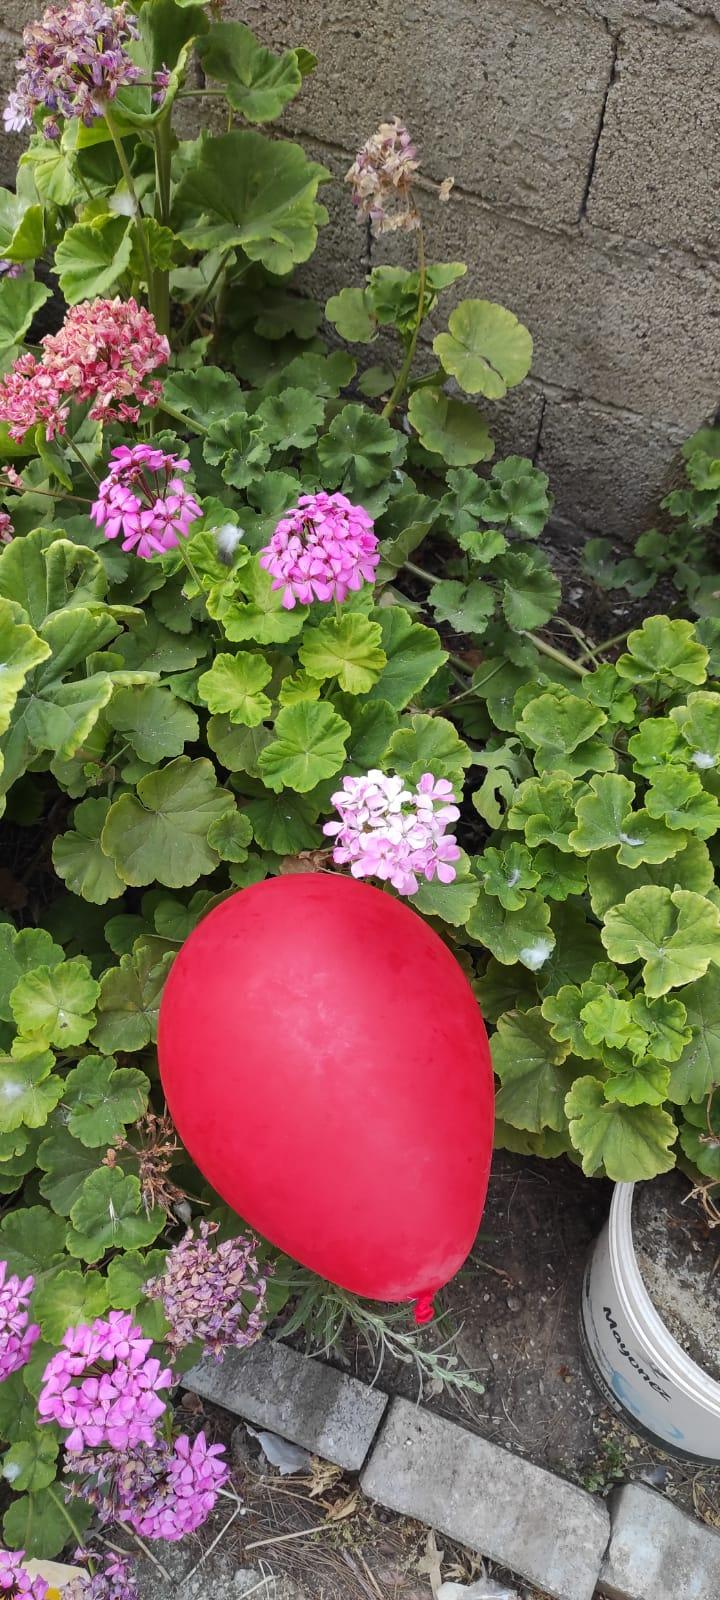red: (152, 866, 507, 1323)
